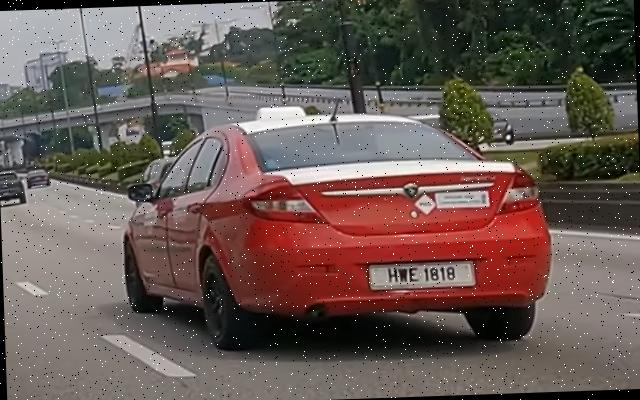License_Plate: (366, 259, 477, 293)
car: (119, 96, 556, 356)
